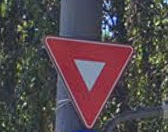cedeaza: (43, 35, 135, 132)
